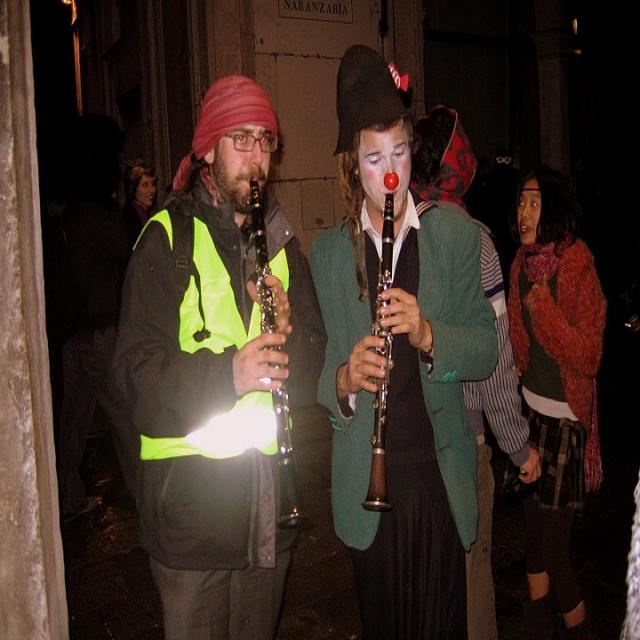clarinet: (242, 177, 314, 536), (360, 191, 398, 520)
